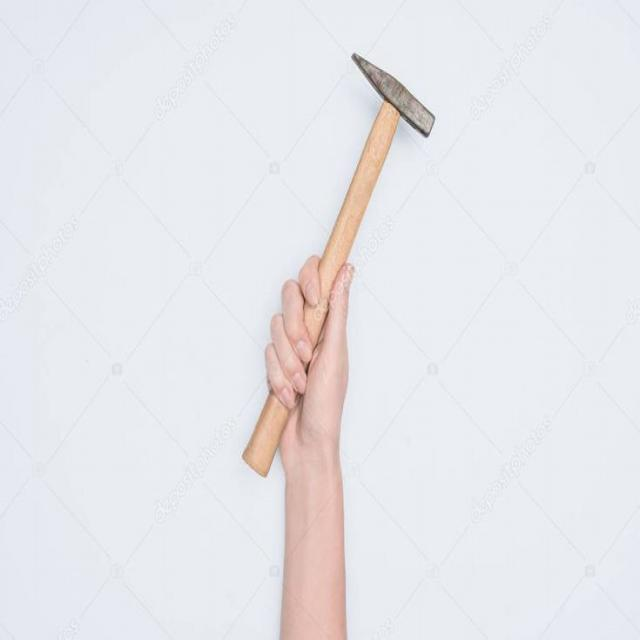hammer: (234, 44, 438, 482)
